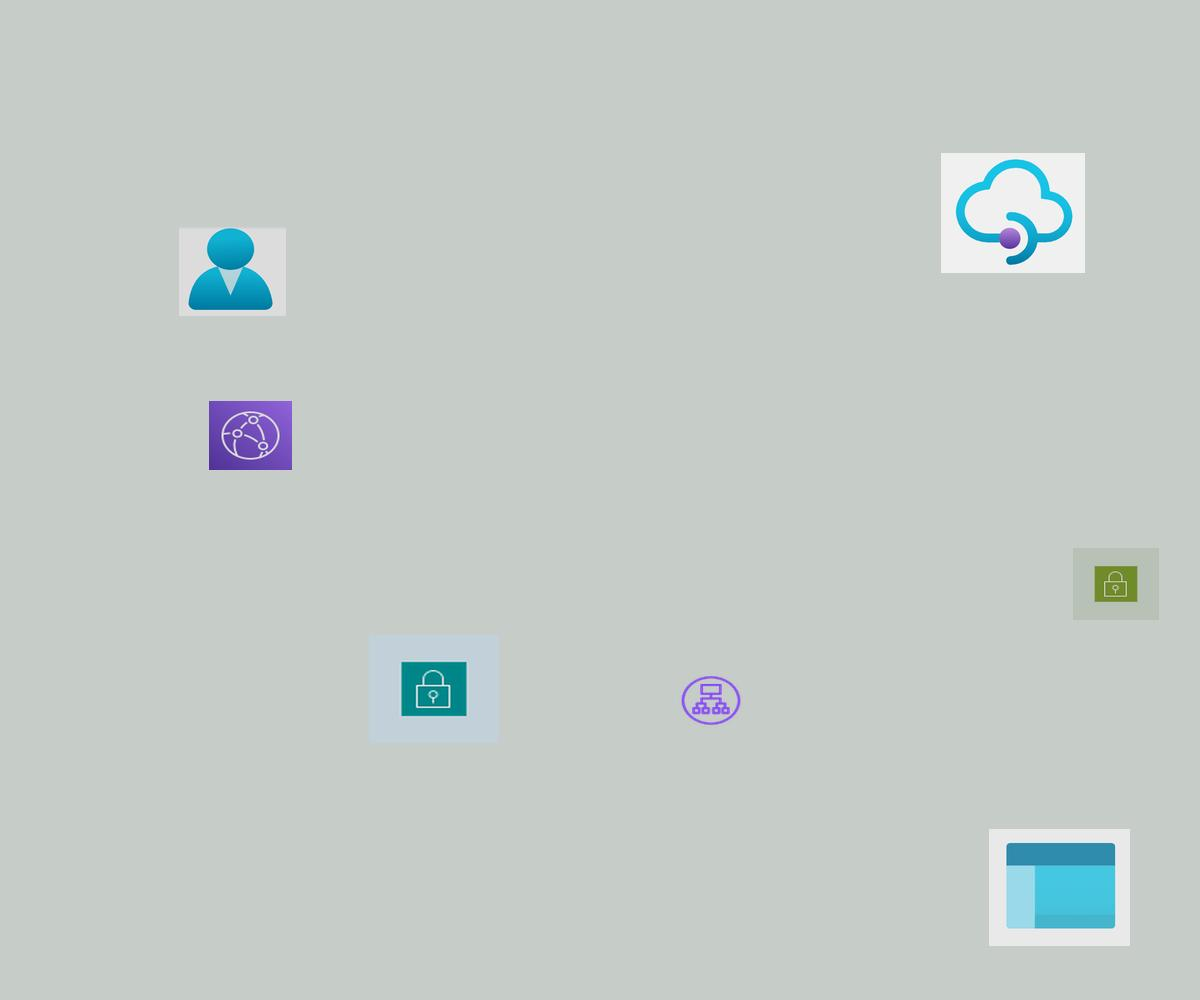AWS-CloudFront: (209, 401, 292, 470)
AWS-Private-subnet: (369, 635, 499, 743)
AWS-Public-subnet: (1073, 548, 1159, 620)
AWS-Res_Elastic-Load-Balancing_Application-Load-Balancer: (679, 674, 743, 727)
Azure_api_gateway: (941, 153, 1085, 273)
Azure_management-portal: (989, 829, 1130, 946)
Azure_users: (179, 227, 286, 316)
